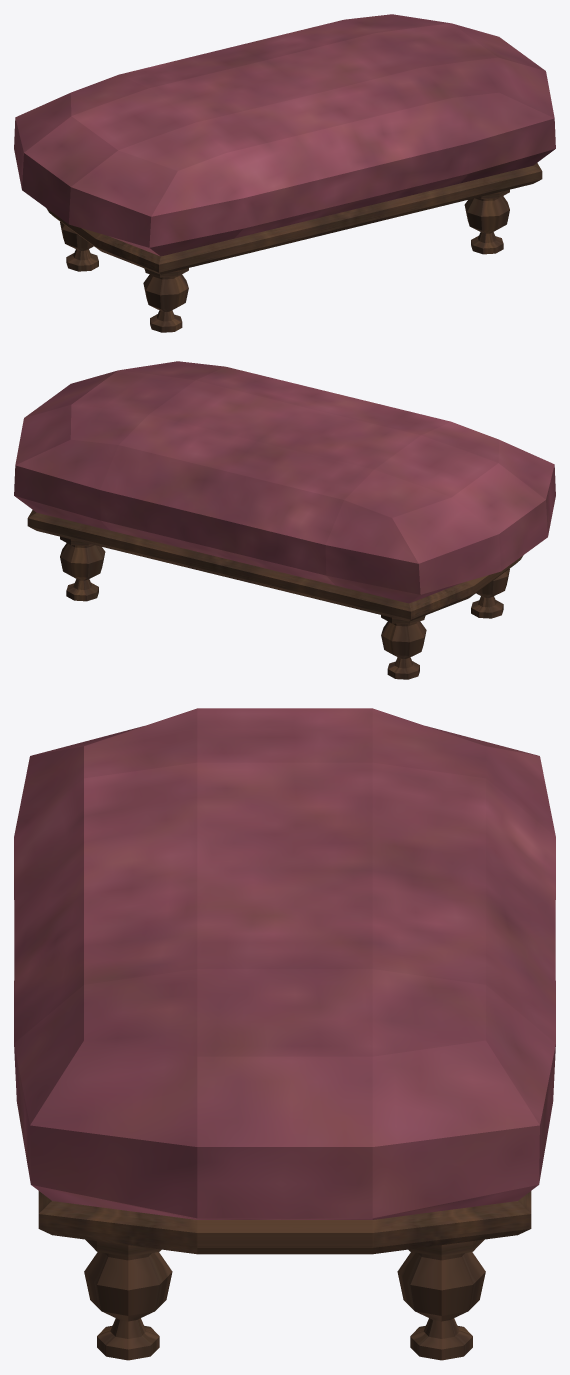
File: Bench2.fbx
The picture shows the model from 3 angles, top to bottom: view 1: azimuth 30°, elevation 25°; view 2: azimuth 150°, elevation 25°; view 3: azimuth 270°, elevation 25°; orthographic projection. The views are drawn at different scales.
Visible parts, largest first — view 1: Cube.047; view 2: Cube.047; view 3: Cube.047.
Part boxes in pixels (bbox=[...]): Cube.047: bbox=[14, 14, 555, 332]; Cube.047: bbox=[14, 361, 555, 679]; Cube.047: bbox=[14, 708, 555, 1360].
Bounding box in the file's own units: 173 × 61.36 × 90.15.
Materials: 1 (1 with a texture image).
